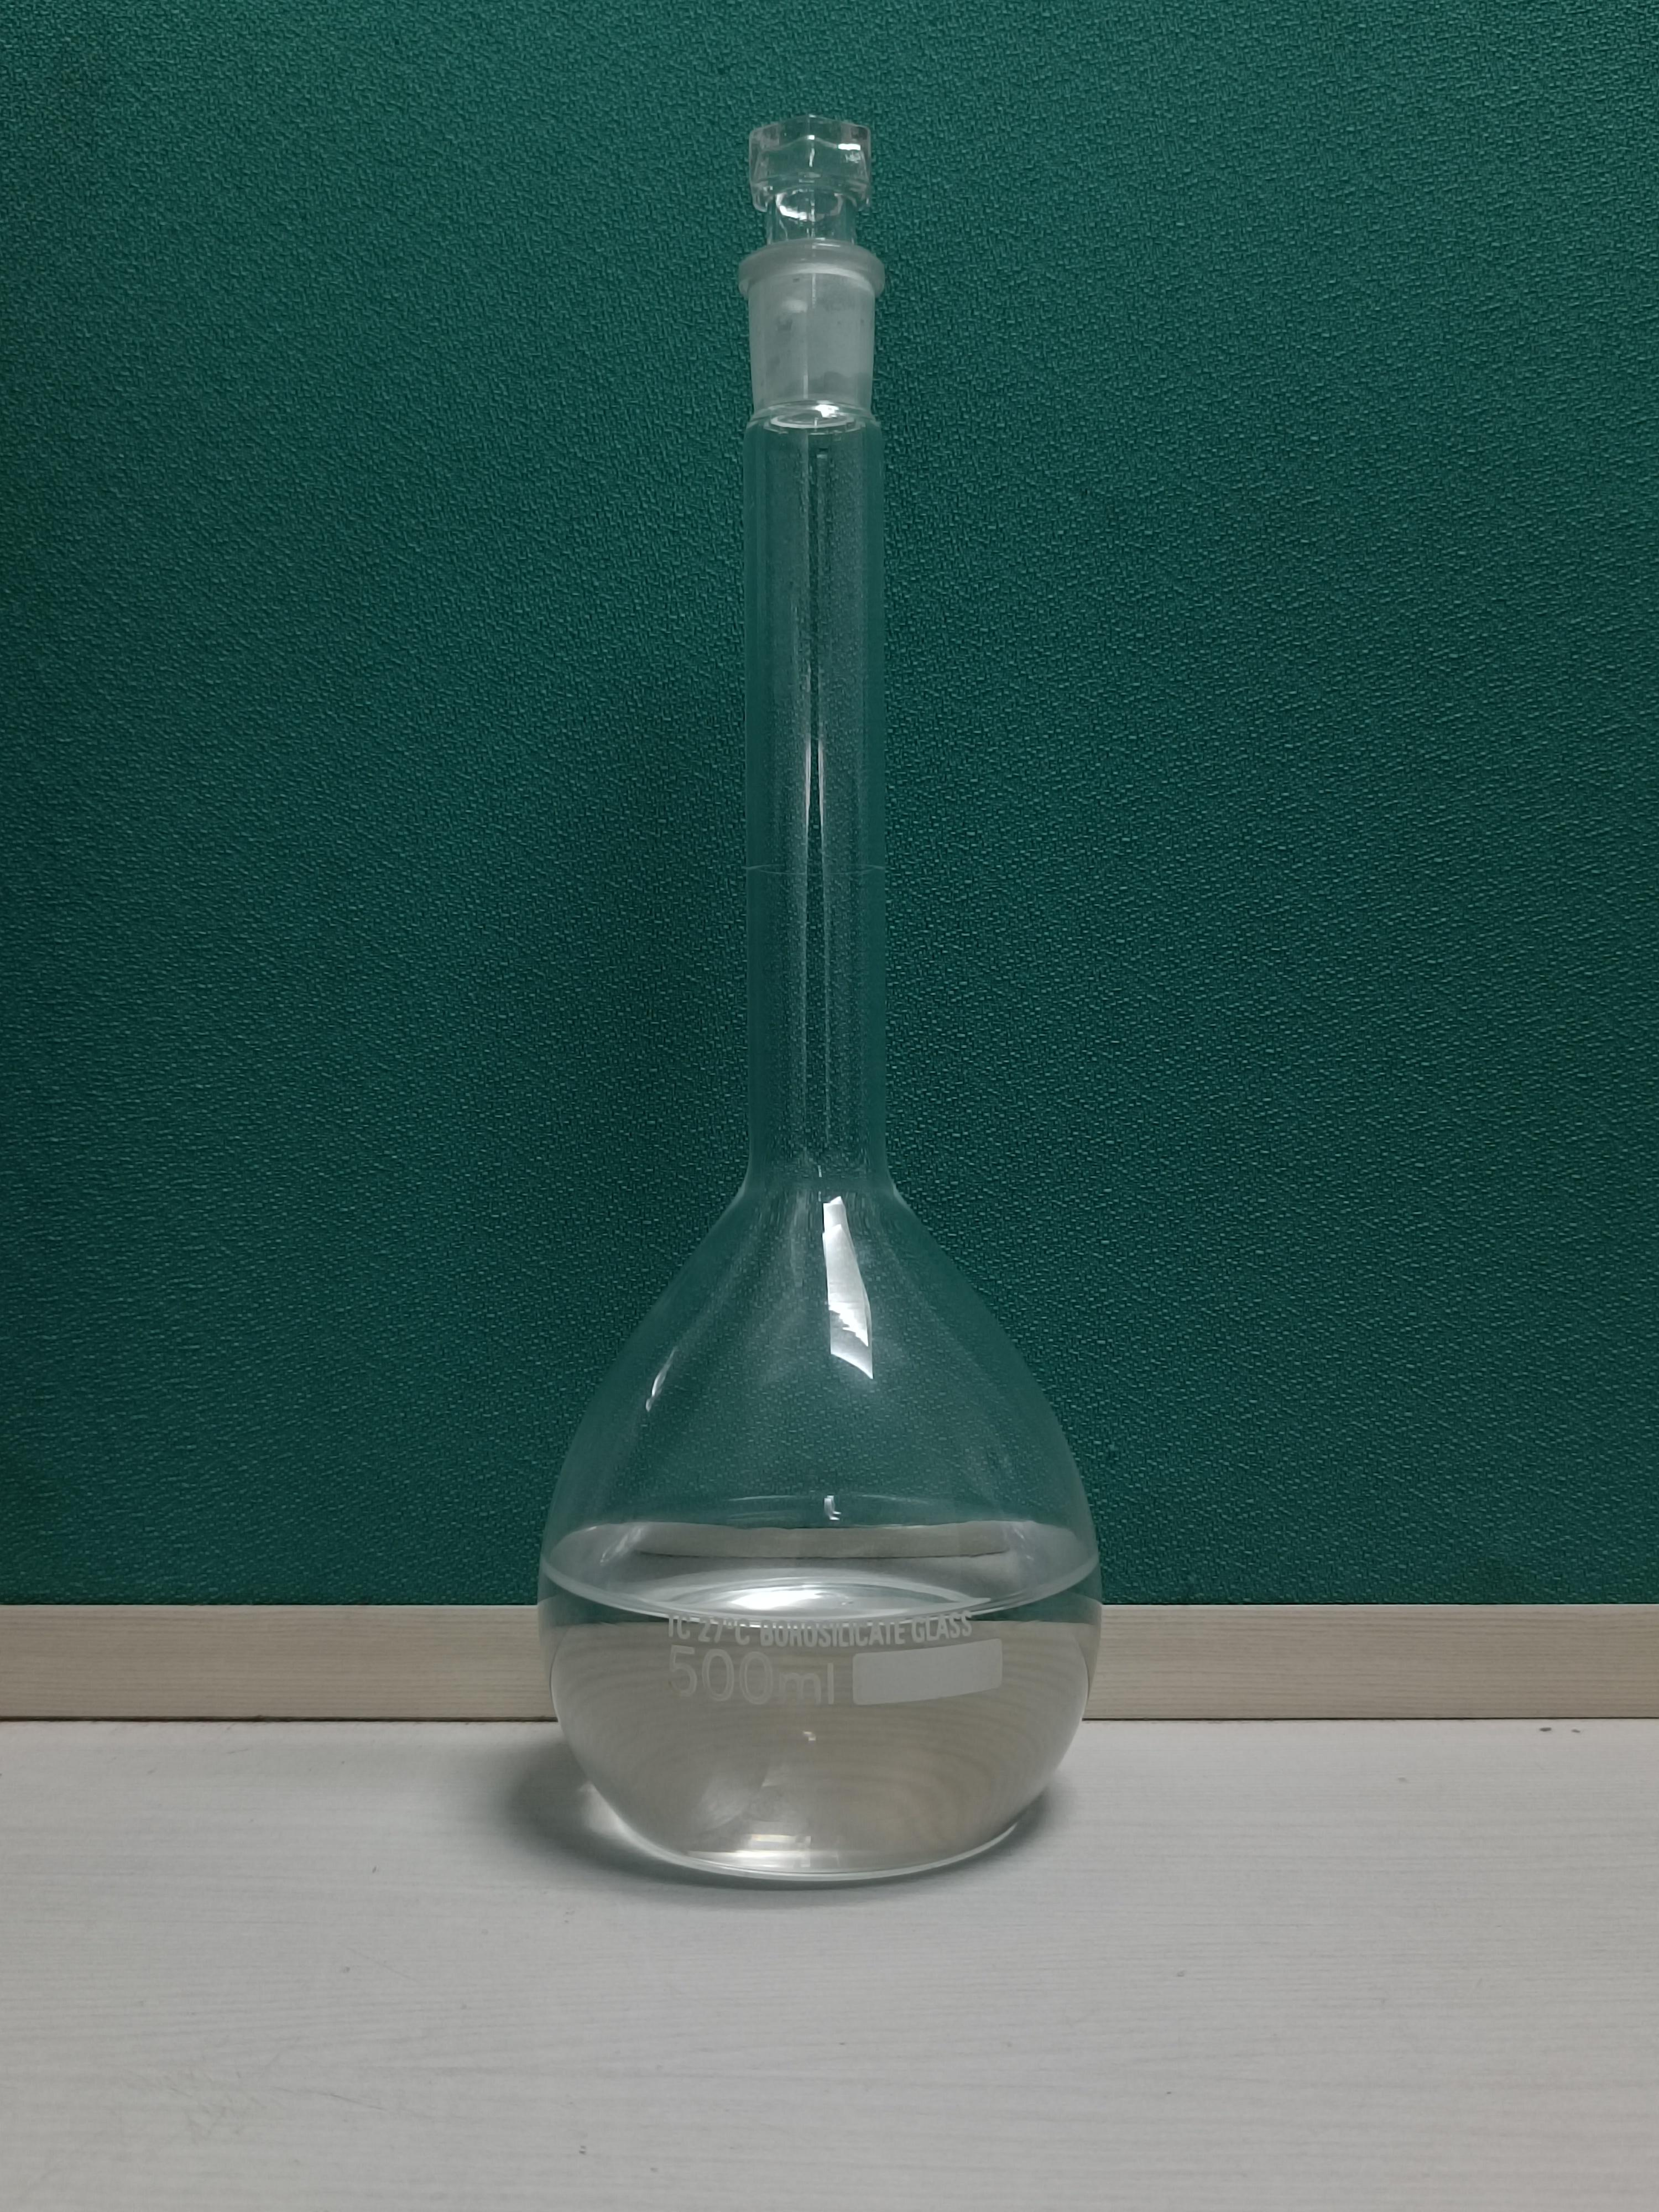Volumetric flask: (502, 88, 1120, 1886)
